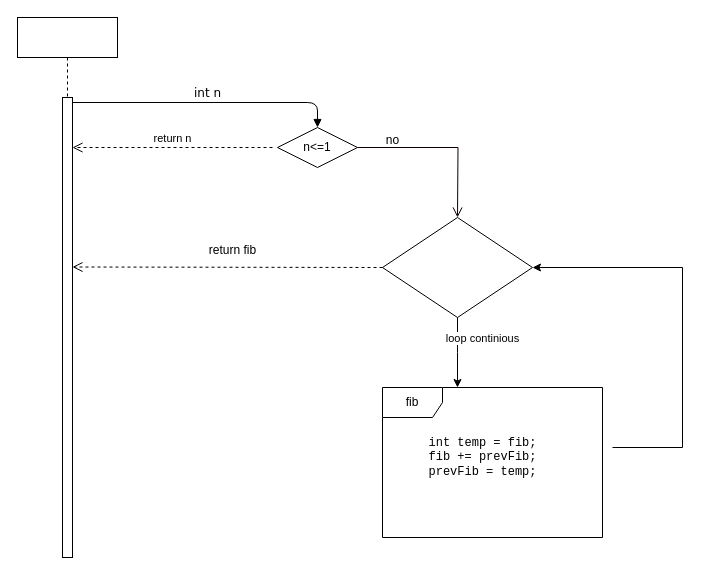
Image size: 708x575. Some labels were removed from this diagram. Here are the shapes that lost their labels. From the top down, the centre of each, then its label:
[67,57]: fibonacciIterative
[457,267]: i < n || i > 1
